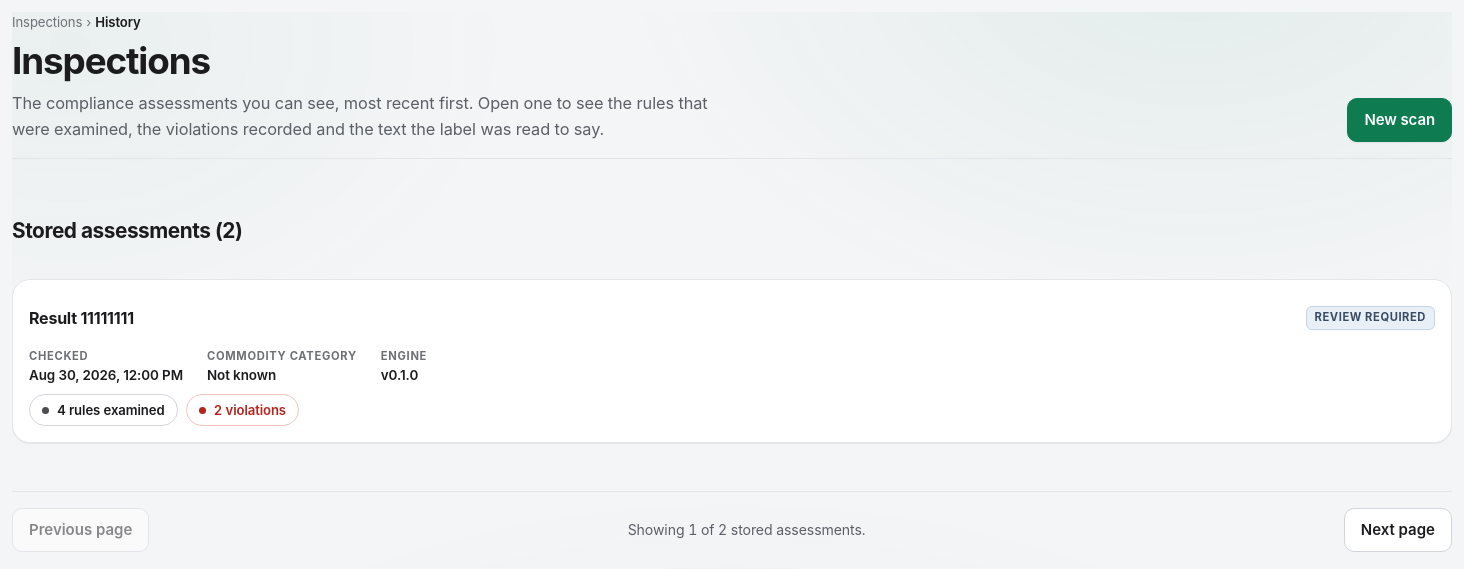
it: pagination › follows the API previous URL back
The image size is (1464, 569).
Click the button "Next page" at point(1398, 530), box [1344, 508, 1452, 552]
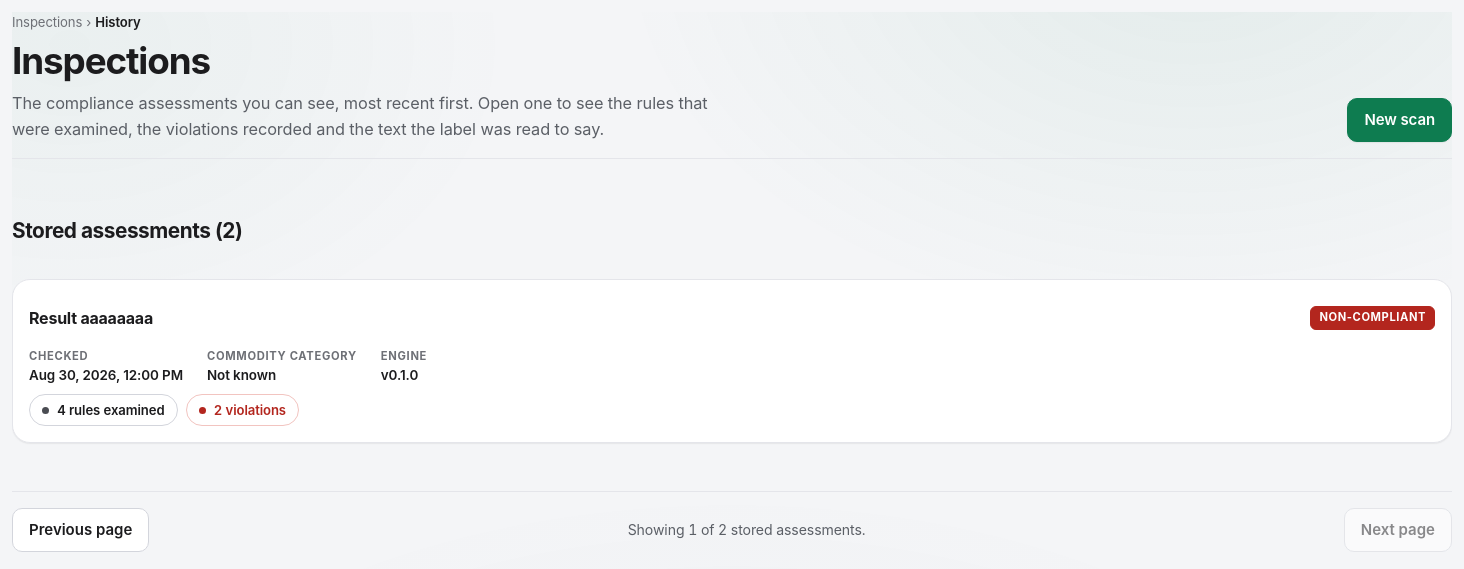
Expected: the link "Result aaaaaaaa" is shown, [29, 308, 153, 328]
Click the button "Previous page" at point(81, 530), box [12, 508, 149, 552]
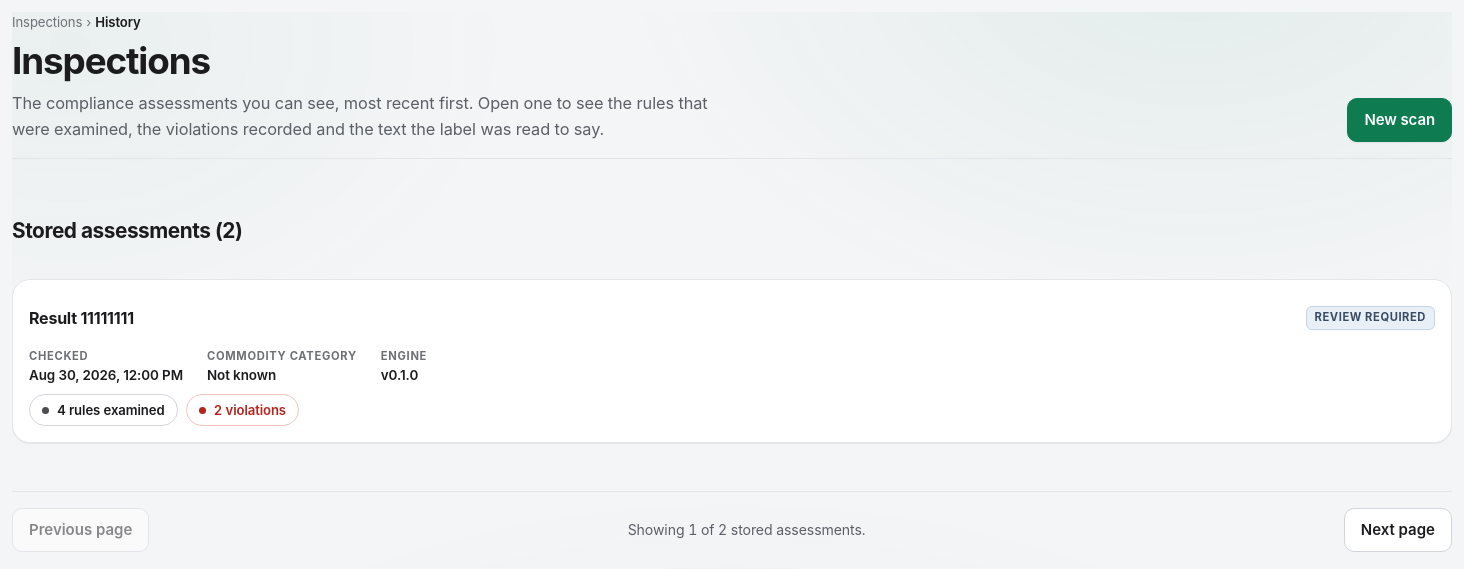
Expected: the link "Result 11111111" is shown, [29, 308, 134, 328]
